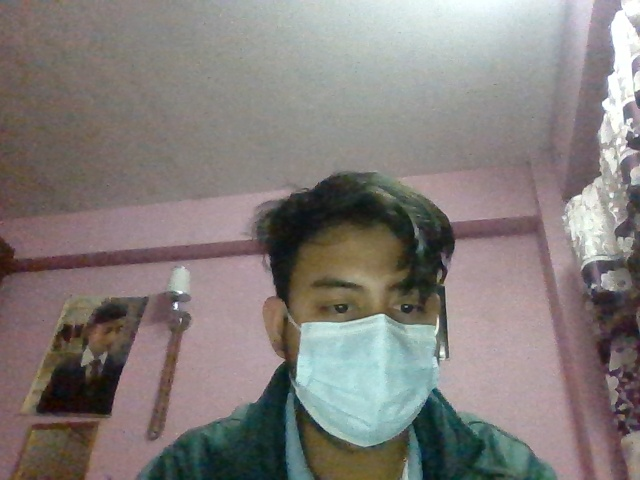mask: (279, 322, 441, 452)
